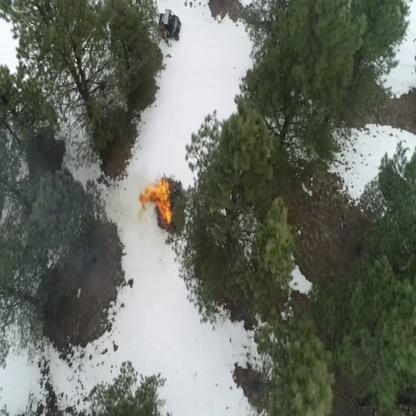Fire: (138, 176, 174, 225)
